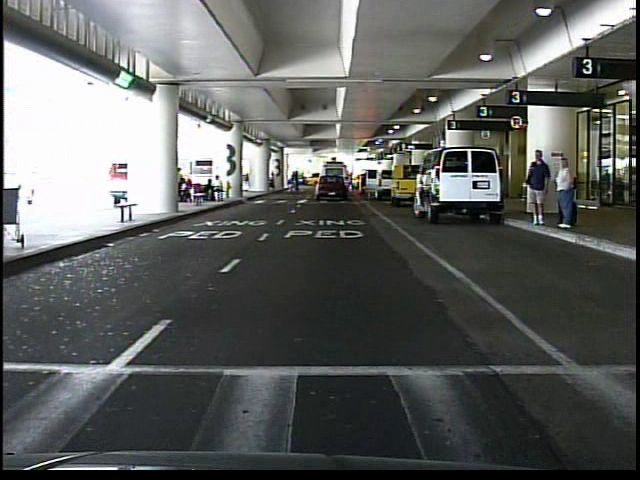person: (521, 145, 550, 229), (552, 153, 578, 232), (267, 168, 279, 193), (346, 169, 357, 194)
